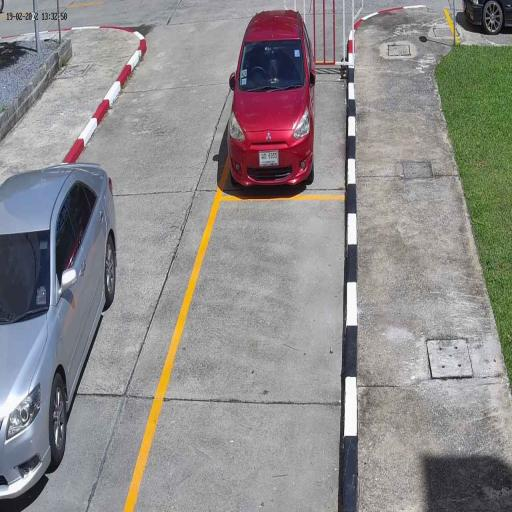car: (0, 159, 119, 499), (225, 10, 317, 193)
